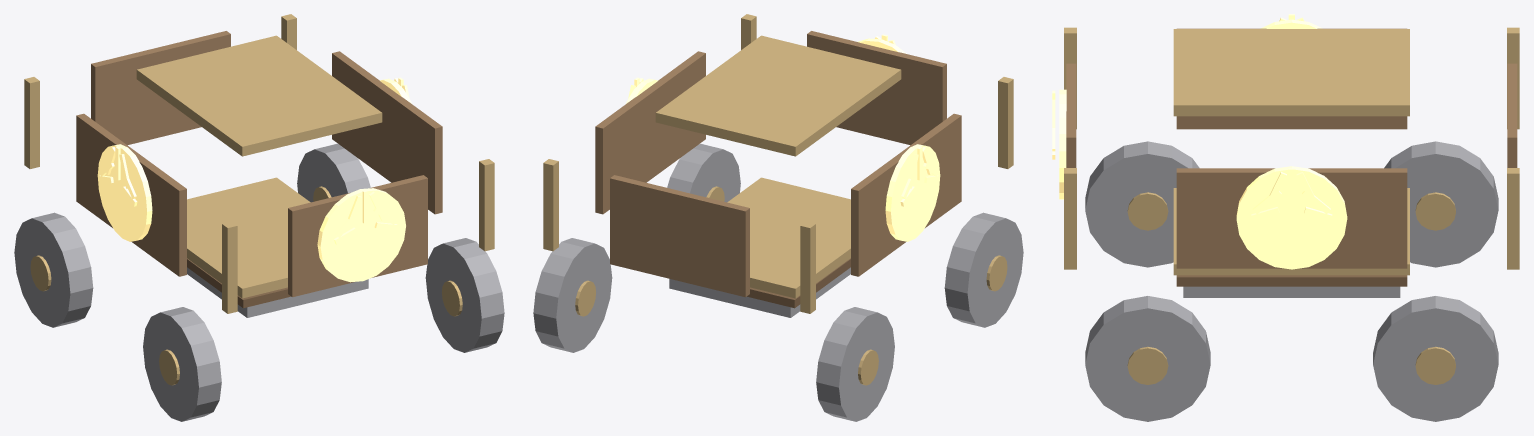
The model's file is minecart.glb.
3 views of the same model, side by side, from view 1: azimuth 30°, elevation 25°; view 2: azimuth 150°, elevation 25°; view 3: azimuth 270°, elevation 25° (orthographic). The views are drawn at different scales.
Parts seen in each view (by area): view 1: BandOuter@1.45, BandOuter@0.50, Side+1, End+1, Wheel-1-1, Wheel-1+1, Wheel+1-1, Side-1, End-1, EmblemDisc_y, EmblemDisc_x, Wheel+1+1 (+9 smaller); view 2: BandOuter@1.45, End+1, BandOuter@0.50, Side+1, End-1, Wheel-1+1, Wheel-1-1, Wheel+1+1, Side-1, EmblemDisc_x, Wheel+1-1, Chassis (+8 smaller); view 3: BandOuter@1.45, Side+1, Wheel+1+1, Wheel+1-1, Wheel-1-1, Wheel-1+1, EmblemDisc_x.001, Side-1, Floor, Chassis, BandOuter@0.50, Rivet+1-1 (+10 smaller).
Part boxes in pixels (<box>): BandOuter@1.45: <box>136,35,382,156</box>; BandOuter@0.50: <box>187,177,310,298</box>; Side+1: <box>332,51,442,214</box>; End+1: <box>91,31,230,145</box>; Wheel-1-1: <box>143,307,221,421</box>; Wheel-1+1: <box>14,212,93,327</box>; Wheel+1-1: <box>425,238,504,352</box>; Side-1: <box>76,113,186,276</box>; End-1: <box>288,175,427,297</box>; EmblemDisc_y: <box>317,188,405,282</box>; EmblemDisc_x: <box>97,144,152,241</box>; Wheel+1+1: <box>297,143,370,202</box>; BandOuter@1.45: <box>655,35,901,156</box>; End+1: <box>610,175,749,297</box>; BandOuter@0.50: <box>727,177,850,298</box>; Side+1: <box>595,51,705,214</box>; End-1: <box>807,31,946,145</box>; Wheel-1+1: <box>816,307,894,421</box>; Wheel-1-1: <box>944,212,1023,327</box>; Wheel+1+1: <box>533,238,612,352</box>; Side-1: <box>851,113,961,276</box>; EmblemDisc_x: <box>885,144,940,241</box>; Wheel+1-1: <box>667,143,740,202</box>; Chassis: <box>669,267,850,317</box>; BandOuter@1.45: <box>1173,29,1409,116</box>; Side+1: <box>1176,168,1407,268</box>; Wheel+1+1: <box>1373,296,1498,421</box>; Wheel+1-1: <box>1085,296,1210,421</box>; Wheel-1-1: <box>1085,141,1199,267</box>; Wheel-1+1: <box>1384,141,1498,267</box>; EmblemDisc_x.001: <box>1236,166,1347,269</box>; Side-1: <box>1176,28,1407,129</box>; Floor: <box>1176,275,1407,286</box>; Chassis: <box>1183,286,1400,297</box>; BandOuter@0.50: <box>1173,188,1409,275</box>; Rivet+1-1: <box>1064,168,1076,269</box>.
Size of the model in its own units: 2.18 by 1.62 by 2.53.
